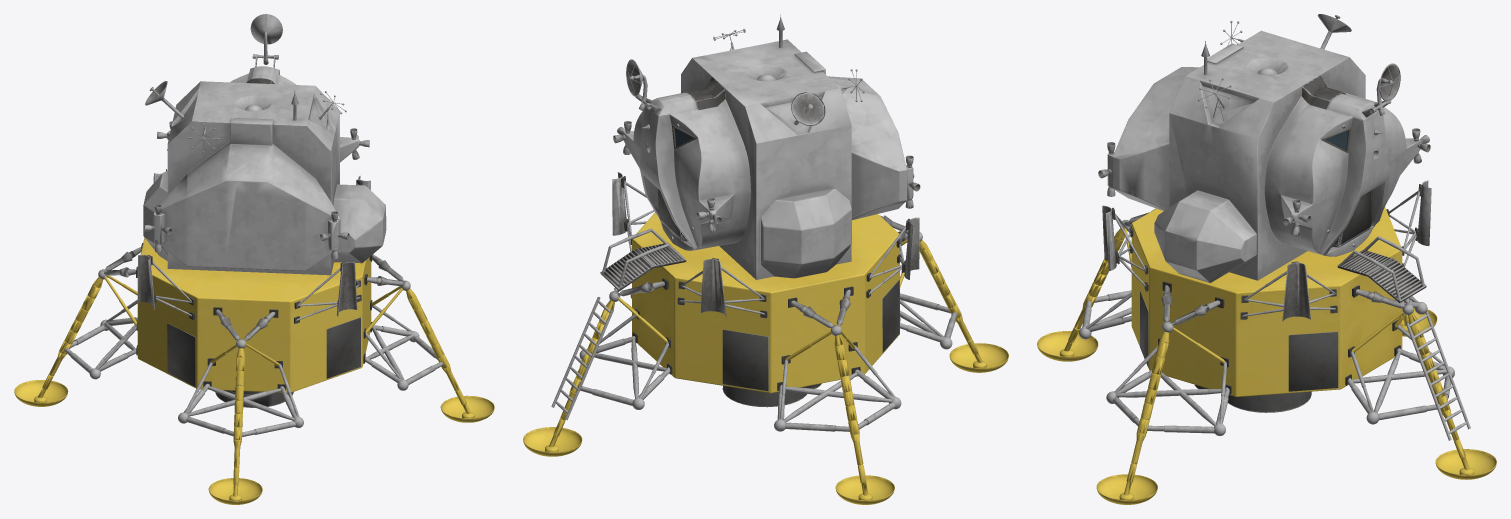
The picture shows the model from 3 angles, left to right: view 1: azimuth 30°, elevation 25°; view 2: azimuth 150°, elevation 25°; view 3: azimuth 270°, elevation 25°; orthographic projection. The views are drawn at different scales.
Visible parts, largest first — view 1: Aluminium_Capsule_Aluminium Capsule_0, Gold_Gold_0, Aluminium_Pieces_Aluminium Pieces_0 (×2), Darker_Aluminium_Darker Aluminium_0; view 2: Aluminium_Capsule_Aluminium Capsule_0, Gold_Gold_0, Aluminium_Pieces_Aluminium Pieces_0 (×2), Darker_Aluminium_Darker Aluminium_0; view 3: Aluminium_Capsule_Aluminium Capsule_0, Gold_Gold_0, Aluminium_Pieces_Aluminium Pieces_0 (×2), Darker_Aluminium_Darker Aluminium_0.
Part boxes in pixels (box(x1,y1,x2,y2)): Aluminium_Capsule_Aluminium Capsule_0: box(143, 66, 386, 275); Gold_Gold_0: box(14, 238, 494, 504); Aluminium_Pieces_Aluminium Pieces_0 (×2): box(64, 14, 443, 436); Darker_Aluminium_Darker Aluminium_0: box(89, 78, 419, 427); Aluminium_Capsule_Aluminium Capsule_0: box(623, 39, 913, 279); Gold_Gold_0: box(523, 212, 1008, 504); Aluminium_Pieces_Aluminium Pieces_0 (×2): box(580, 14, 956, 431); Darker_Aluminium_Darker Aluminium_0: box(551, 77, 952, 431); Aluminium_Capsule_Aluminium Capsule_0: box(1107, 30, 1421, 282); Gold_Gold_0: box(1037, 207, 1496, 504); Aluminium_Pieces_Aluminium Pieces_0 (×2): box(1082, 14, 1452, 433); Darker_Aluminium_Darker Aluminium_0: box(1079, 75, 1470, 440).
Bounding box in the file's own units: 61.7 × 57.32 × 61.7.
Materials: 5 (5 with a texture image).
